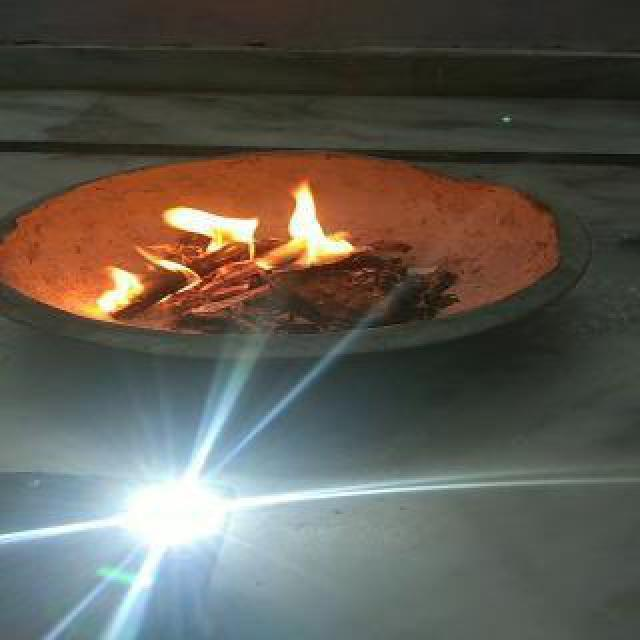Fire: (90, 172, 356, 316)
